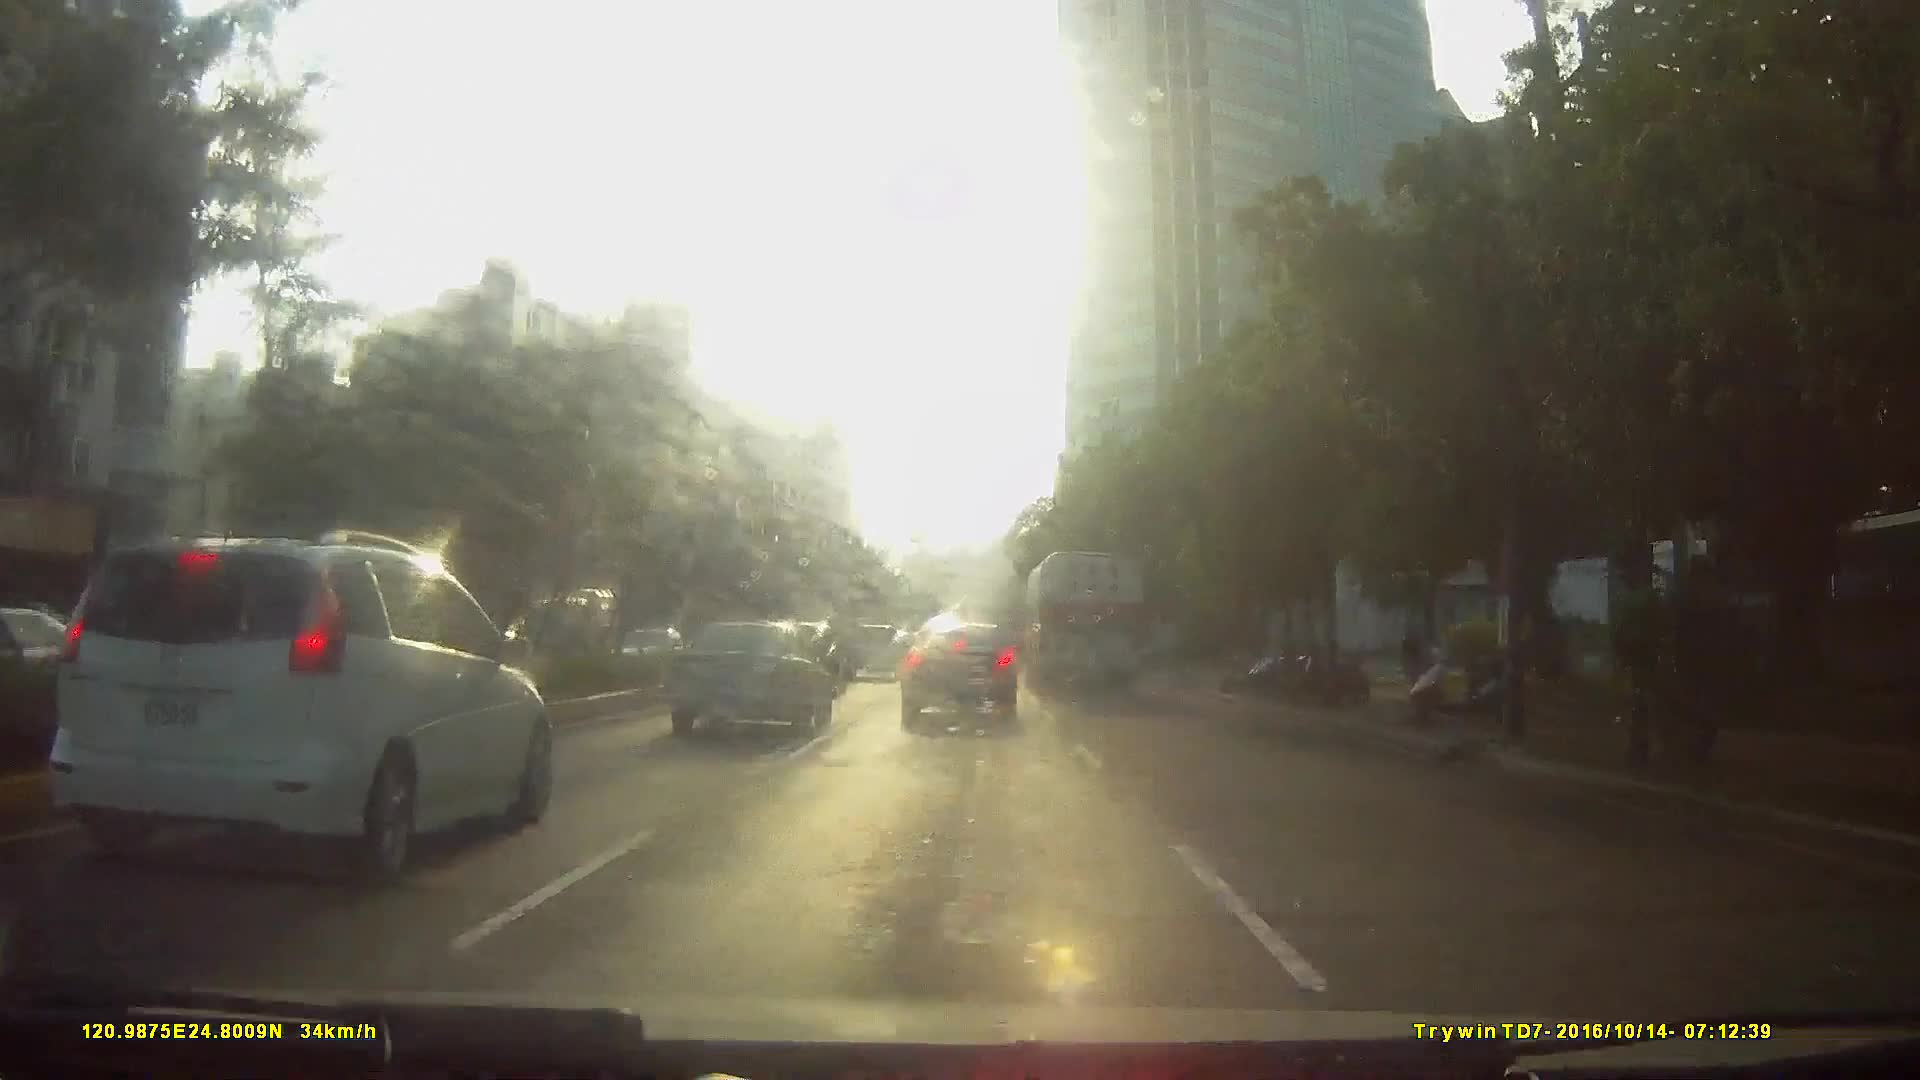pedestrian: (1396, 609, 1425, 700)
vehicle: (62, 512, 554, 886), (250, 556, 684, 868), (658, 613, 829, 736), (1021, 538, 1145, 691), (896, 617, 1021, 717), (511, 578, 610, 664), (842, 618, 902, 678)
